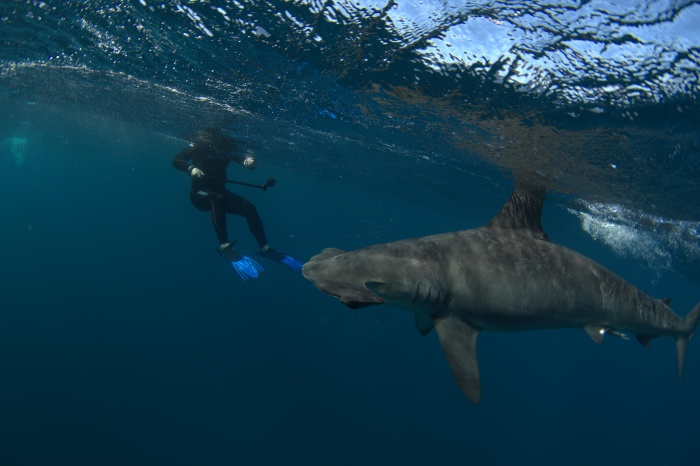Hammer: (289, 166, 700, 416)
